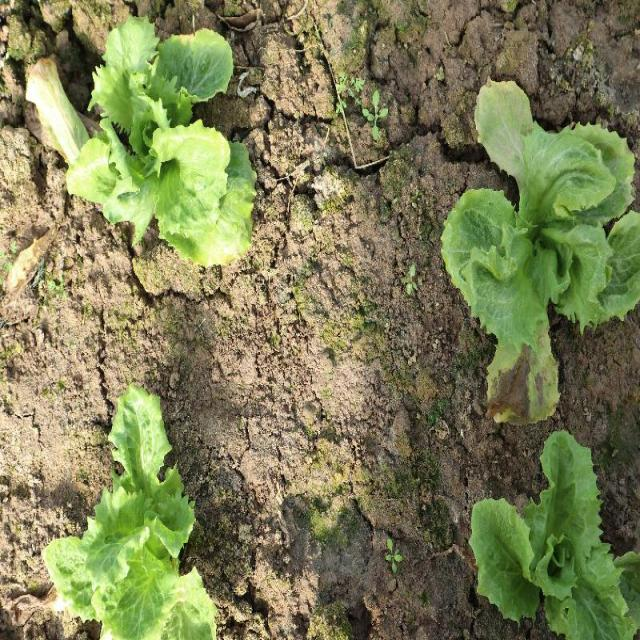crop: (442, 79, 640, 331), (62, 20, 255, 272), (466, 431, 640, 640), (40, 389, 216, 595)
